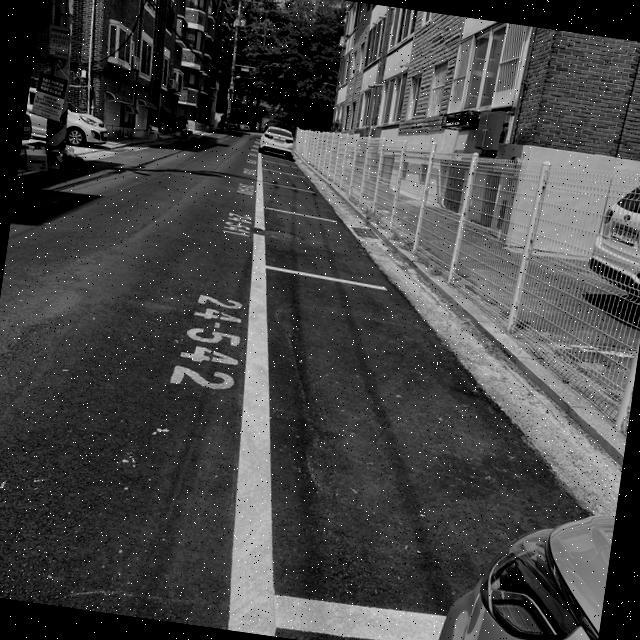empty: (252, 273, 518, 611), (250, 207, 373, 277)
